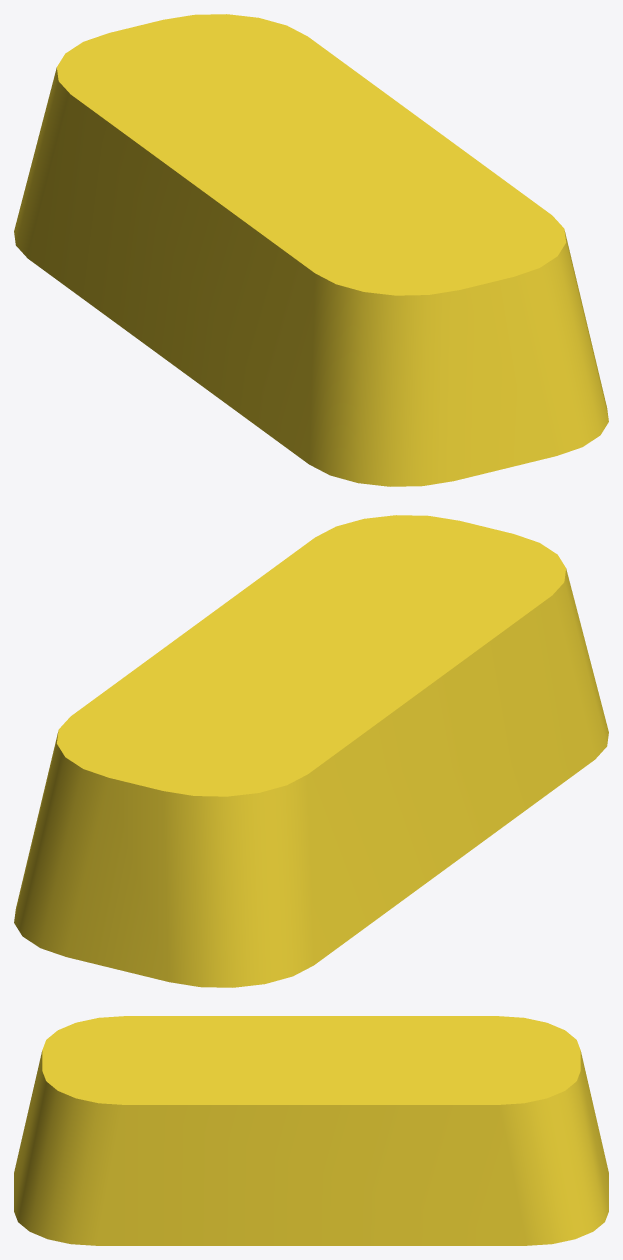
File: Gold.fbx
The picture shows the model from 3 angles, top to bottom: view 1: azimuth 30°, elevation 25°; view 2: azimuth 150°, elevation 25°; view 3: azimuth 270°, elevation 25°; orthographic projection. The views are drawn at different scales.
Visible parts, largest first — view 1: Gold; view 2: Gold; view 3: Gold.
Part boxes in pixels (x1,y1,x2,y2): Gold: [14, 14, 608, 486]; Gold: [14, 515, 608, 987]; Gold: [14, 1016, 608, 1245].
Bounding box in the file's own units: 0.3119 × 0.1789 × 0.7322.
